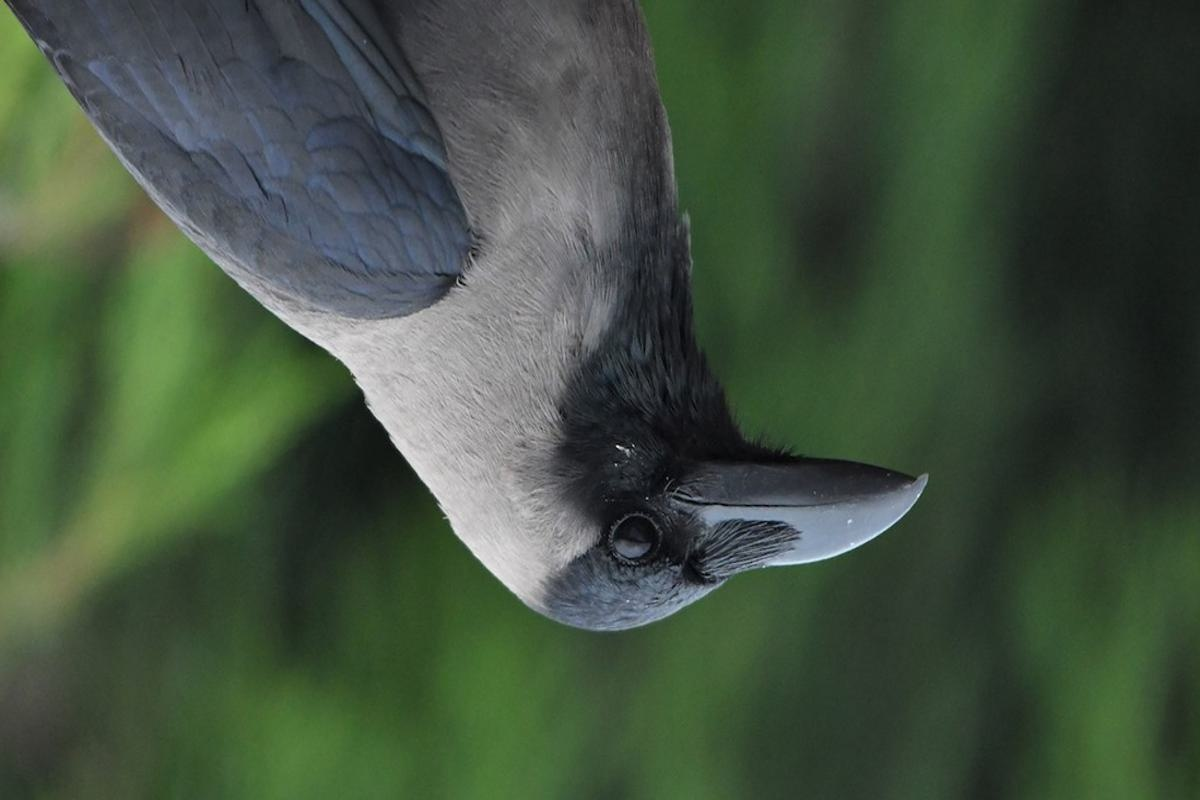crow: (32, 1, 951, 654)
